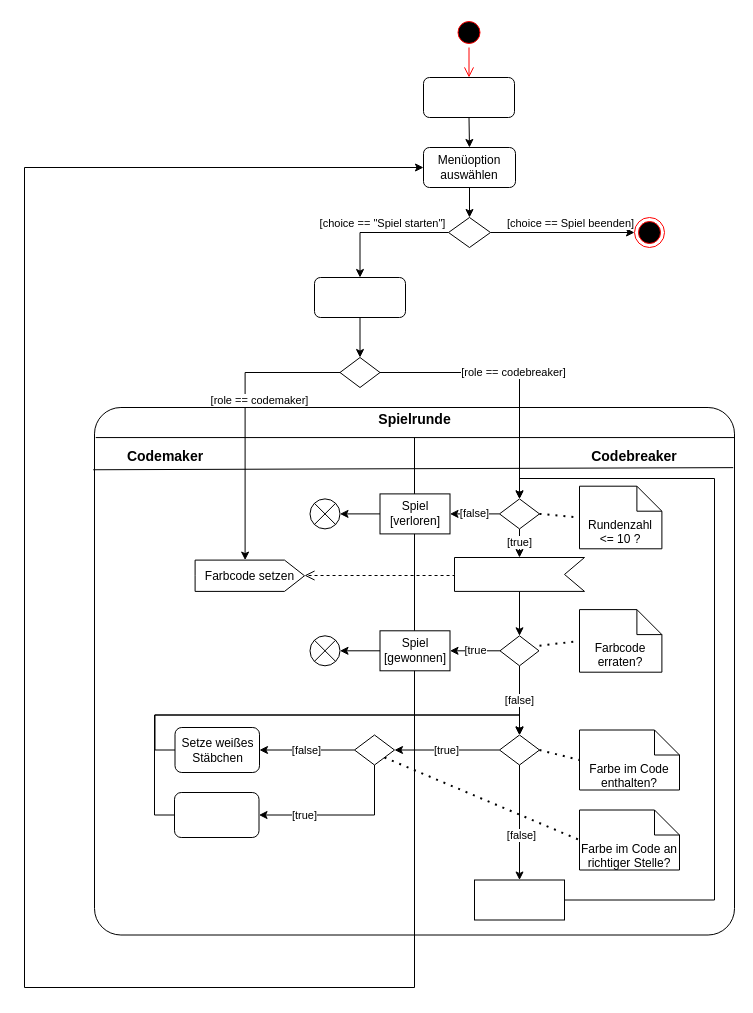
The diagram is 753 pixels wide and 1013 high, and some of its shapes have lost their labels. The centre of each missing label's shape, as x and y in pixels:
"Anwendung starten" belongs at [468,97].
"Farbcode raten" belongs at [519,573].
"Rolle wählen" belongs at [360,297].
"Rundenzahl++" belongs at [519,899].
"Setze schwarzes Stäbchen" belongs at [216,815].
